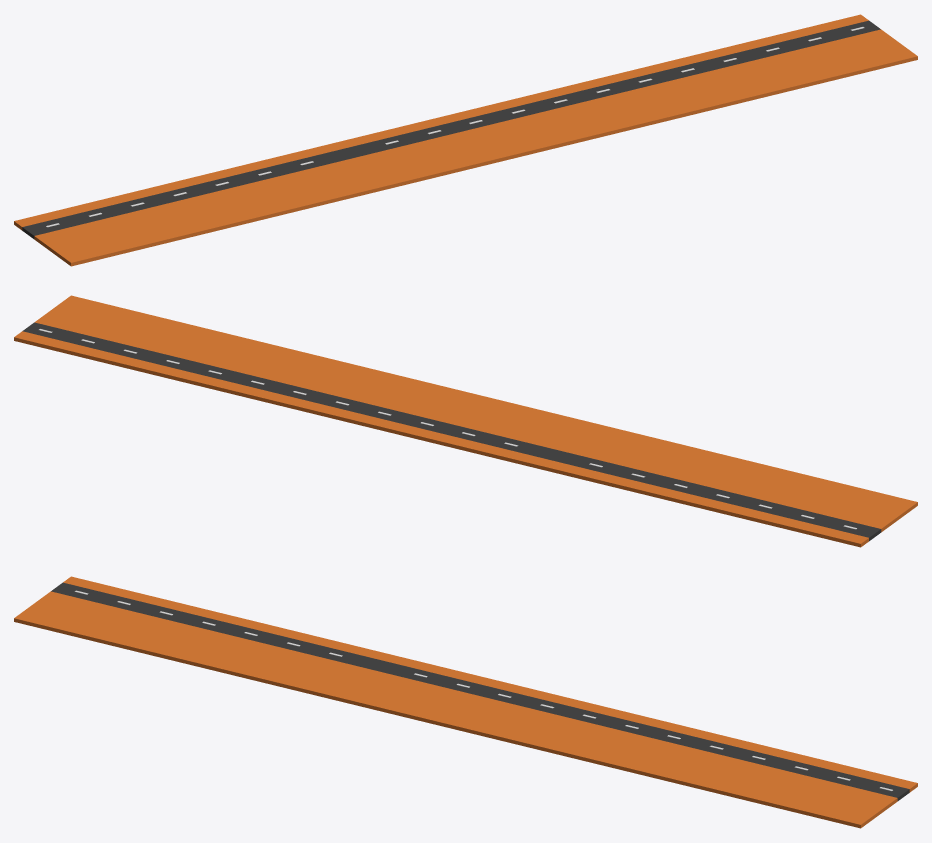
The model's file is Platform.fbx.
3 views of the same model, one above another, from view 1: azimuth 30°, elevation 25°; view 2: azimuth 150°, elevation 25°; view 3: azimuth 330°, elevation 25° (orthographic).
Visible parts, largest first — view 1: Cube.027; view 2: Cube.027; view 3: Cube.027.
Boxes of the visible parts, box(x1,y1,x2,y2) form: Cube.027: box(14, 14, 917, 266); Cube.027: box(14, 295, 917, 547); Cube.027: box(14, 576, 917, 828).
Bounding box in the file's own units: 3998 × 17.7 × 467.
